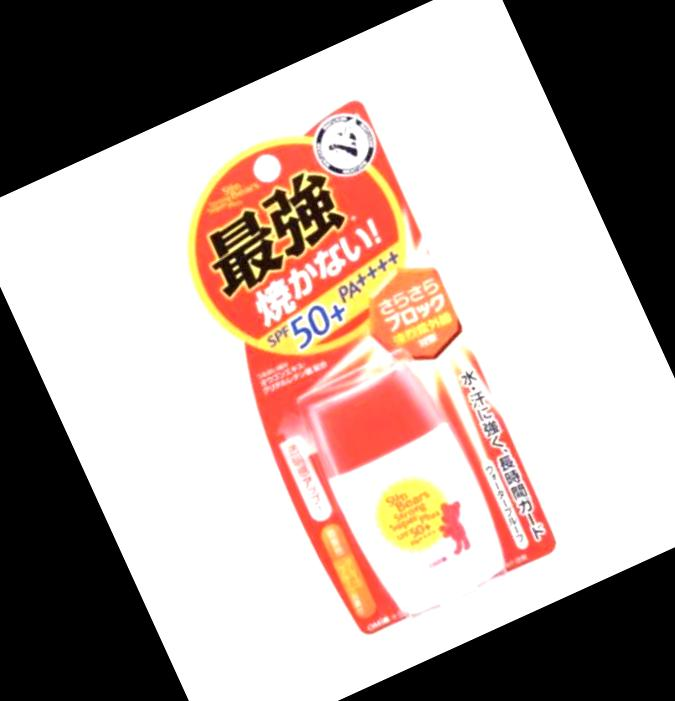cosmetic: (297, 354, 520, 630)
